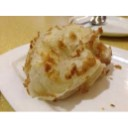parota: (29, 27, 111, 101)
